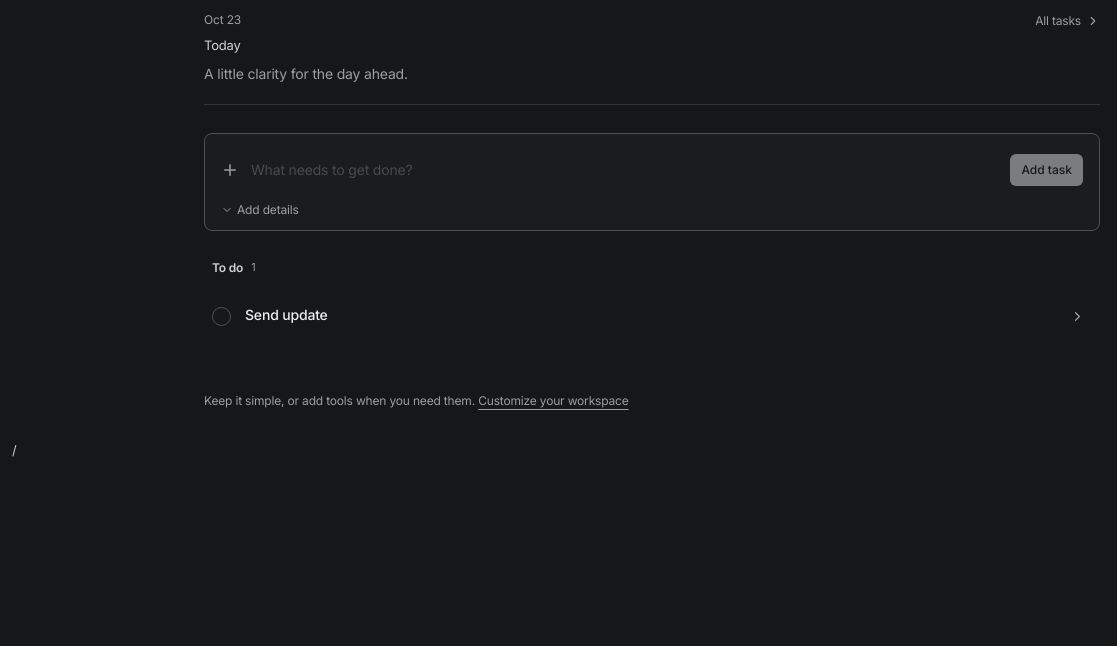
Test: Essentials task experience › completes and reopens a task using the same record
Click the button named "Complete Send update": (222, 316) [212, 307, 231, 326]
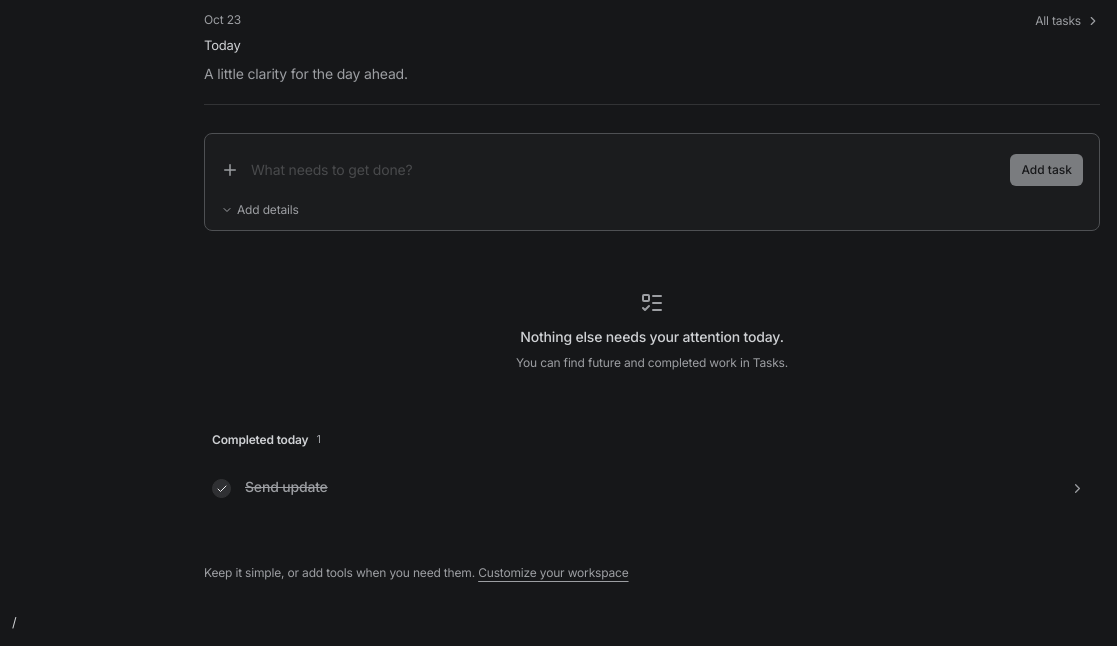
Click the button named "Reopen Send update": (222, 488) [212, 479, 231, 498]
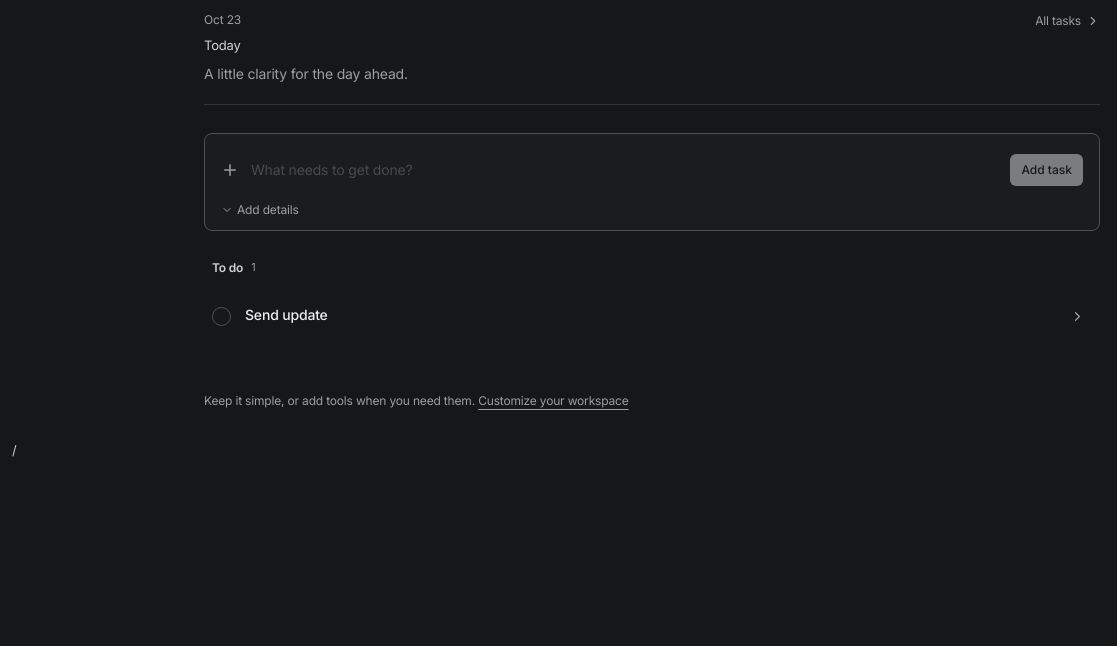
Now the button named "Complete Send update" is shown, box [212, 307, 231, 326]
